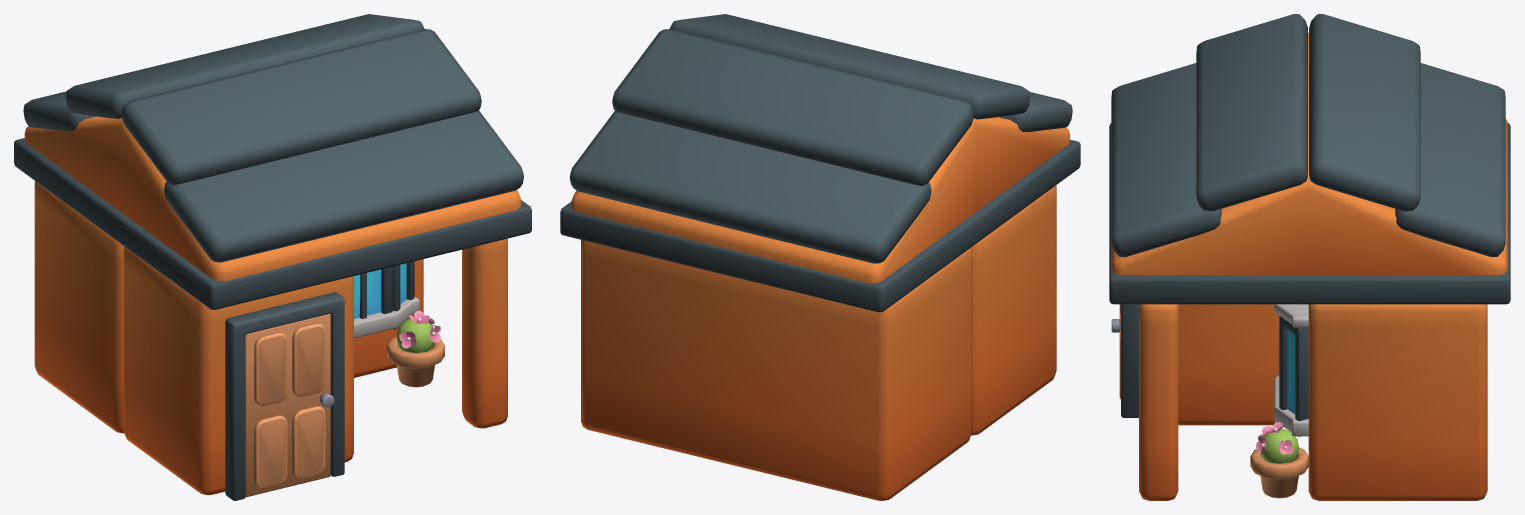
File: mct_build_full_house04.fbx
3 views of the same model, side by side, from view 1: azimuth 30°, elevation 25°; view 2: azimuth 150°, elevation 25°; view 3: azimuth 270°, elevation 25° (orthographic).
Visible parts, largest first — view 1: mct_build_full_house_04, mct_door.004; view 2: mct_build_full_house_04; view 3: mct_build_full_house_04.
Part boxes in pixels (x1,y1,x2,y2): mct_build_full_house_04: (14,14,531,500); mct_door.004: (245,314,334,497); mct_build_full_house_04: (560,14,1080,500); mct_build_full_house_04: (1109,14,1510,500).
Size of the model in its own units: 417 by 422 by 448.
